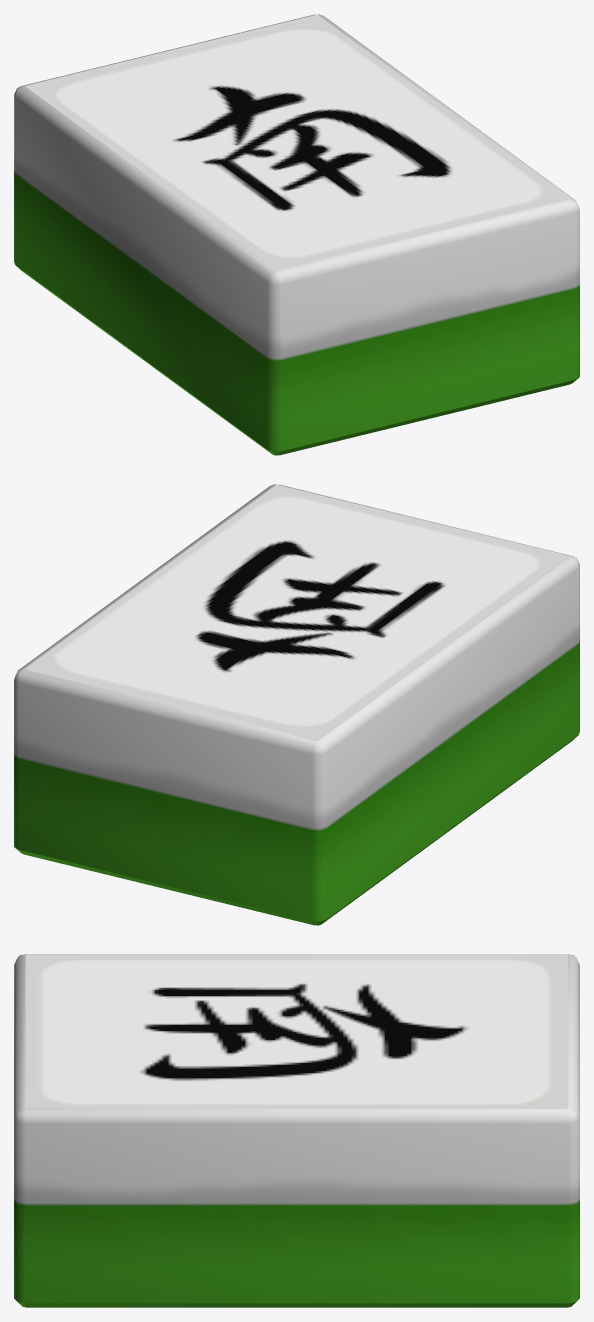
File: mahjong_tile_11.FBX
3 renders of one model, top to bottom at view 1: azimuth 30°, elevation 25°; view 2: azimuth 150°, elevation 25°; view 3: azimuth 270°, elevation 25°, orthographic. The views are drawn at different scales.
Parts seen in each view (by area): view 1: mahjong_tile_11; view 2: mahjong_tile_11; view 3: mahjong_tile_11.
Part boxes in pixels (x1,y1,x2,y2): mahjong_tile_11: (14,14,579,455); mahjong_tile_11: (14,484,579,925); mahjong_tile_11: (14,954,579,1307).
Bounding box in the file's own units: 130 × 73.07 × 190.
